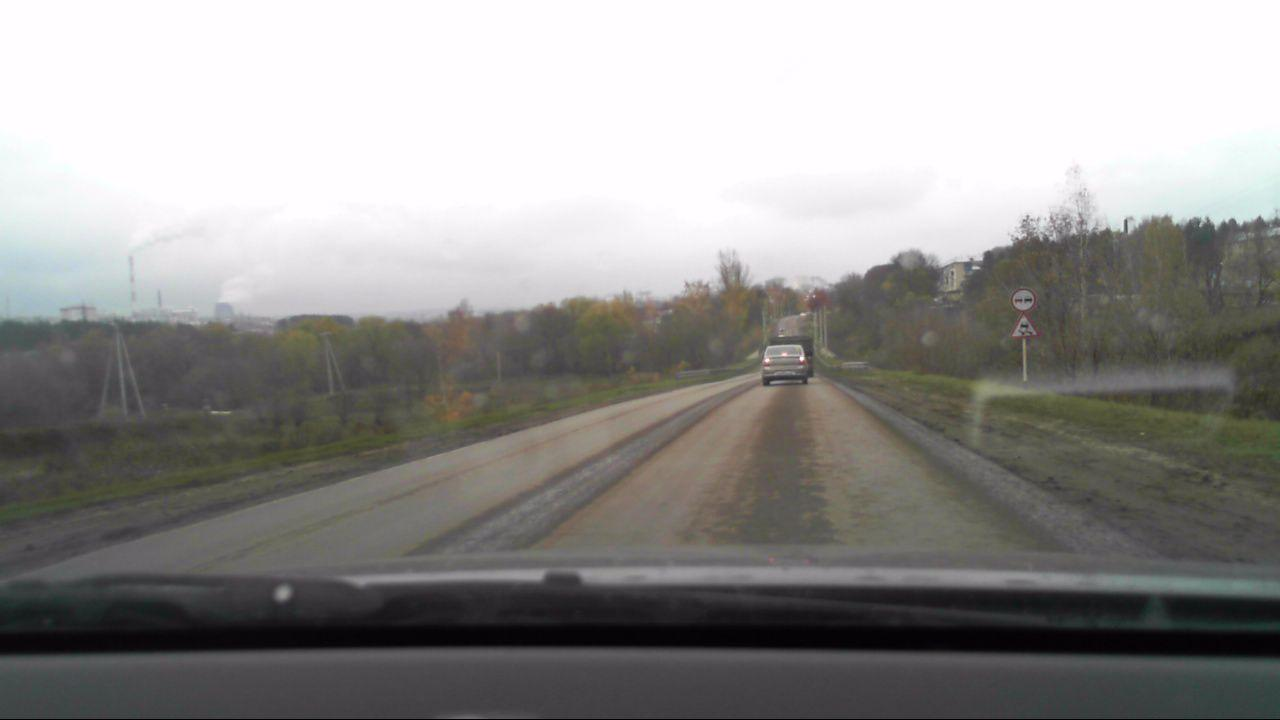1_15: (1012, 314, 1039, 338)
3_20: (1009, 286, 1040, 316)
